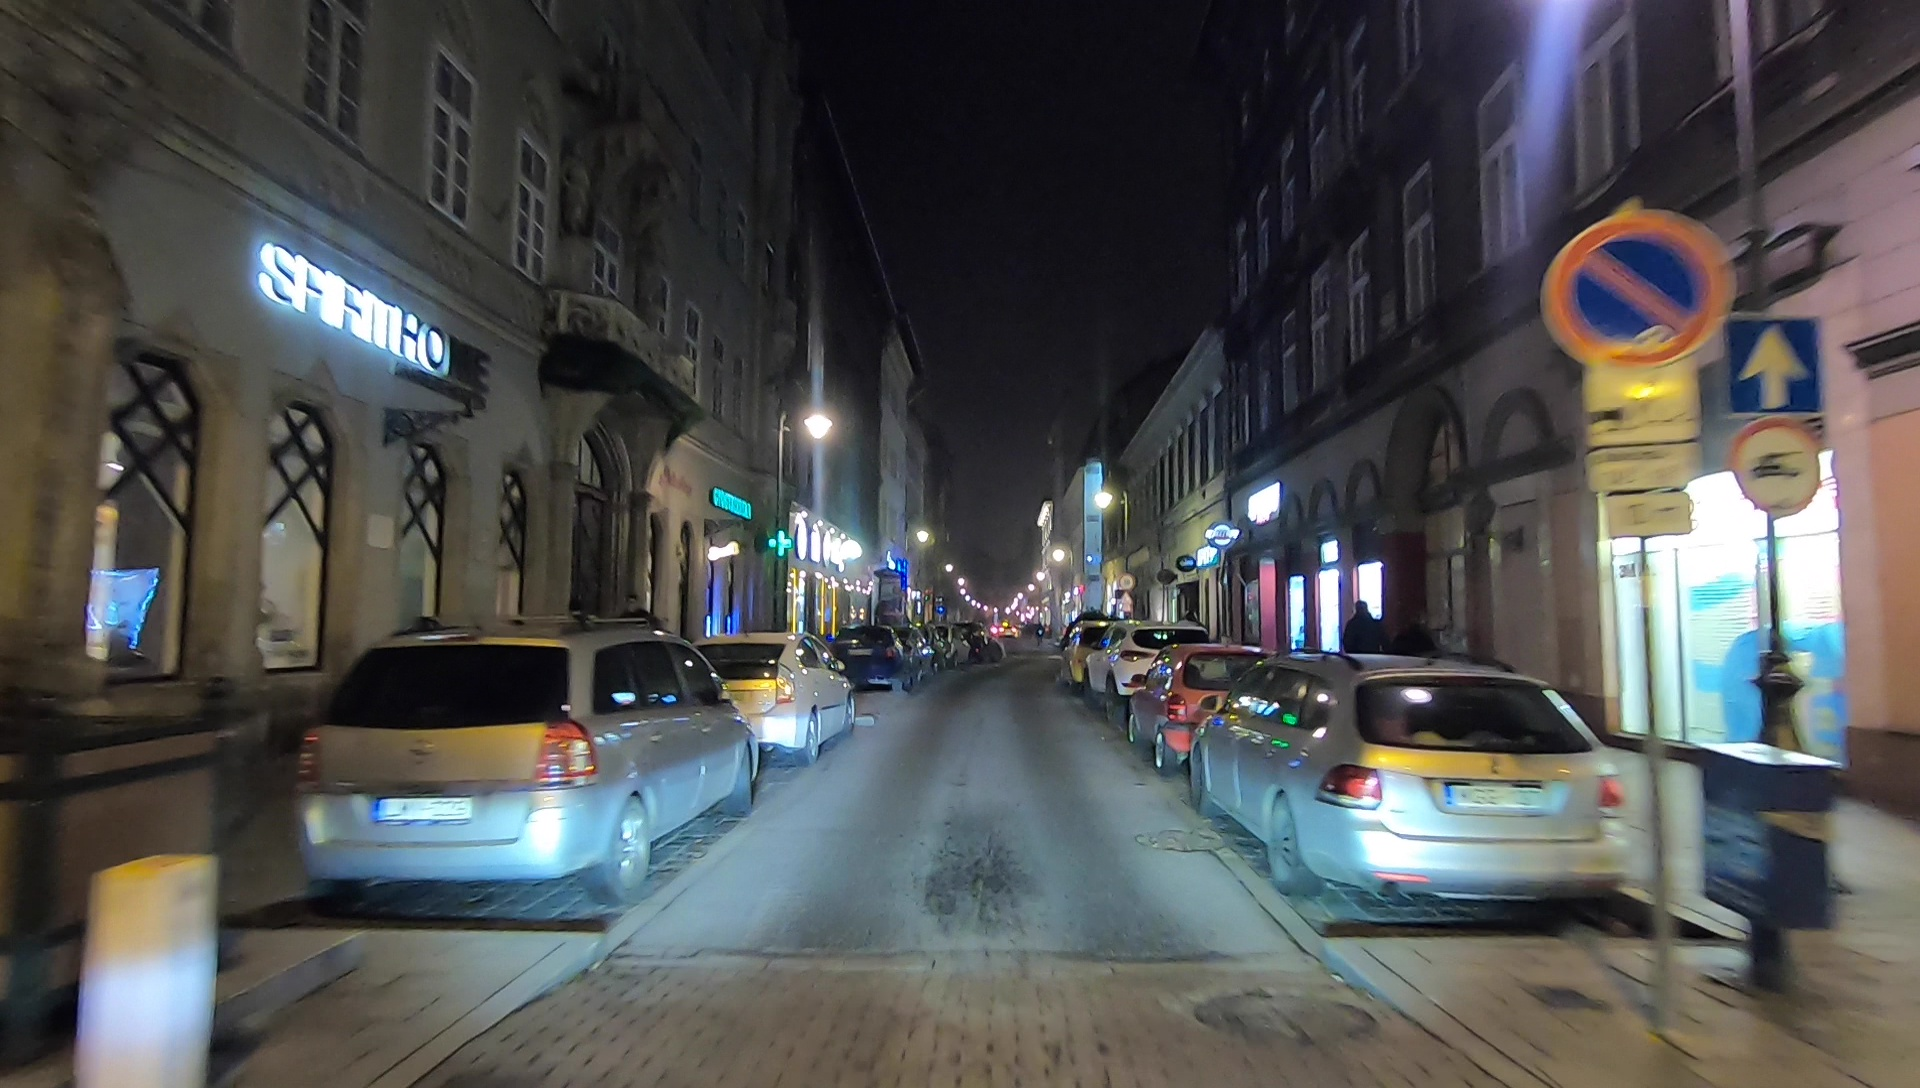person: (1339, 600, 1376, 691), (1393, 613, 1426, 708)
